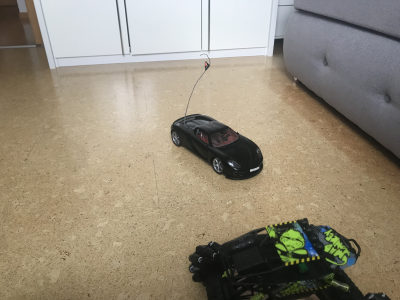remote control car: (181, 215, 389, 300)
